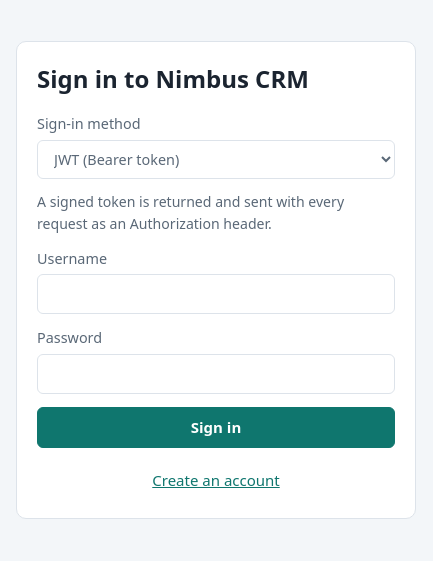
Test case: SignInPage › shows the server message for a wrong password, and flags no field
This screenshot has width=433, height=561.
Type "demo" into the field labelled "Username".
click(216, 294); type("demo")  # box [37, 274, 395, 314]
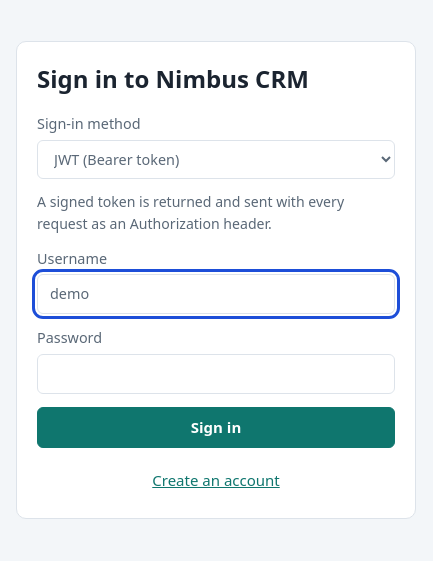
Type "nope" into the password field labelled "Password".
click(216, 374); type("nope")  # box [37, 354, 395, 394]
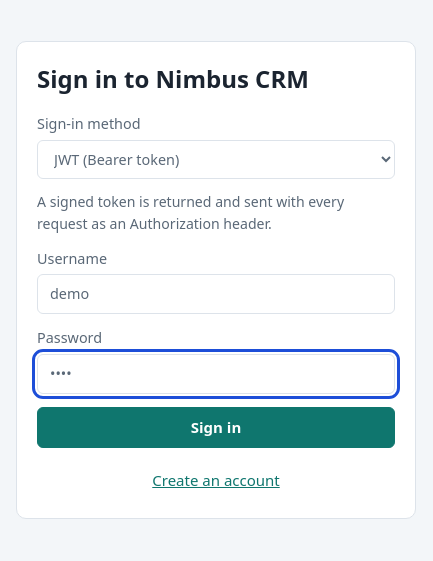
Click the button "Sign in".
click(216, 427)  # box [37, 407, 395, 448]
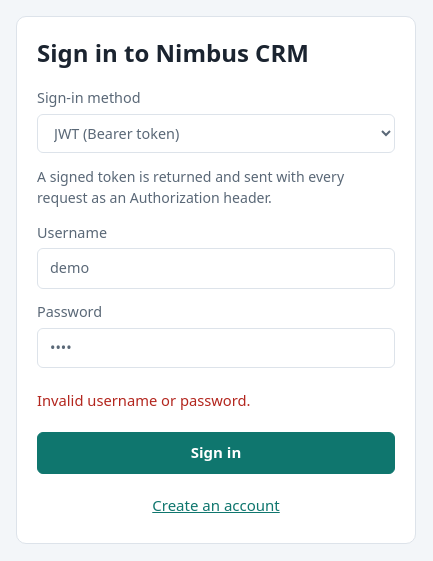
Now the message reads "Invalid username or password.", box [37, 390, 250, 410]
